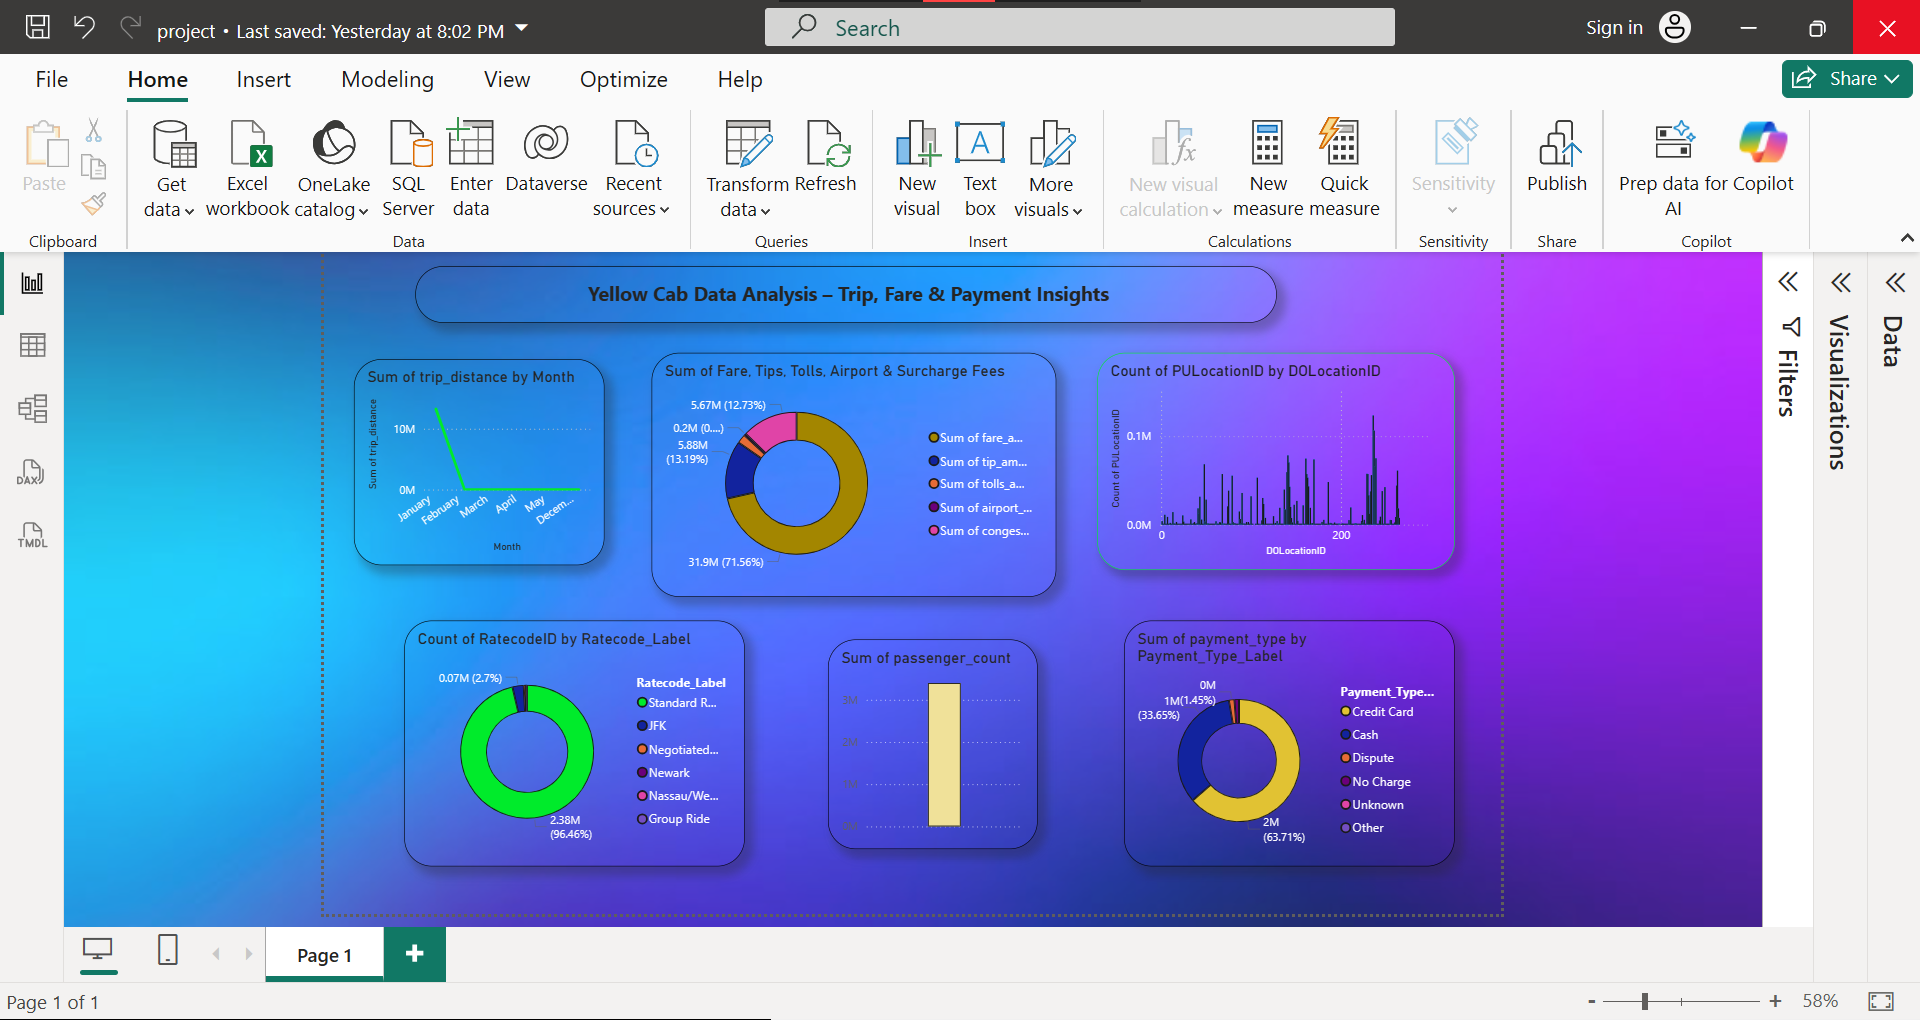

This screenshot's page, from the dashboard's own definition file:
{"tool":"powerbi","page":{"name":"Page 1","canvas":[1280,720],"ordinal":0},"visuals":[{"type":"lineChart","fields":{"Category":["cleaned_yellow_tripdata.tpep_dropoff_datetime.Variation.Date Hierarchy.Month","cleaned_yellow_tripdata.tpep_dropoff_datetime.Variation.Date Hierarchy.Day"],"Y":["Sum(cleaned_yellow_tripdata.trip_distance)"]},"box":[32.5,116.4,272.3,224.3],"z":0},{"type":"columnChart","fields":{"Category":["cleaned_yellow_tripdata.DOLocationID"],"Y":["CountNonNull(cleaned_yellow_tripdata.PULocationID)"]},"box":[840.8,109.6,388.7,236.3],"z":1000},{"type":"donutChart","title":"Sum of Fare, Tips, Tolls, Airport & Surcharge Fees","fields":{"Y":["Sum(cleaned_yellow_tripdata.fare_amount)","Sum(cleaned_yellow_tripdata.tip_amount)","Sum(cleaned_yellow_tripdata.tolls_amount)","Sum(cleaned_yellow_tripdata.airport_fee)","Sum(cleaned_yellow_tripdata.congestion_surcharge)"]},"box":[356.2,109.6,440.1,265.4],"z":2000},{"type":"clusteredColumnChart","fields":{"Y":["Sum(cleaned_yellow_tripdata.passenger_count)"]},"box":[548,421.2,227.7,227.7],"z":3000},{"type":"donutChart","fields":{"Category":["cleaned_yellow_tripdata.Ratecode_Label"],"Y":["CountNonNull(cleaned_yellow_tripdata.RatecodeID)"]},"box":[87.3,400.7,369.9,267.1],"z":4000},{"type":"donutChart","fields":{"Y":["Sum(cleaned_yellow_tripdata.payment_type)"],"Category":["cleaned_yellow_tripdata.Payment_Type_Label"]},"box":[869.9,400.7,359.6,267.1],"z":4001},{"type":"textbox","box":[99.3,15.4,936.7,61.6],"z":4002}]}

Visuals, with their boxes on the page's 1280x720 design canvas (x1, y1, x2, y2). These are canvas units, not pixel positions in the 1920x1020 screenshot, which may show the page scaled, cropped or inside an application window:
lineChart - cleaned_yellow_tripdata.tpep_dropoff_datetime.Variation.Date Hierarchy.Month x cleaned_yellow_tripdata.tpep_dropoff_datetime.Variation.Date Hierarchy.Day: {"left": 32, "top": 116, "right": 305, "bottom": 341}
columnChart - cleaned_yellow_tripdata.DOLocationID x CountNonNull(cleaned_yellow_tripdata.PULocationID): {"left": 841, "top": 110, "right": 1230, "bottom": 346}
"Sum of Fare, Tips, Tolls, Airport & Surcharge Fees" donutChart: {"left": 356, "top": 110, "right": 796, "bottom": 375}
clusteredColumnChart - Sum(cleaned_yellow_tripdata.passenger_count): {"left": 548, "top": 421, "right": 776, "bottom": 649}
donutChart - cleaned_yellow_tripdata.Ratecode_Label x CountNonNull(cleaned_yellow_tripdata.RatecodeID): {"left": 87, "top": 401, "right": 457, "bottom": 668}
donutChart - Sum(cleaned_yellow_tripdata.payment_type) x cleaned_yellow_tripdata.Payment_Type_Label: {"left": 870, "top": 401, "right": 1230, "bottom": 668}
textbox: {"left": 99, "top": 15, "right": 1036, "bottom": 77}
